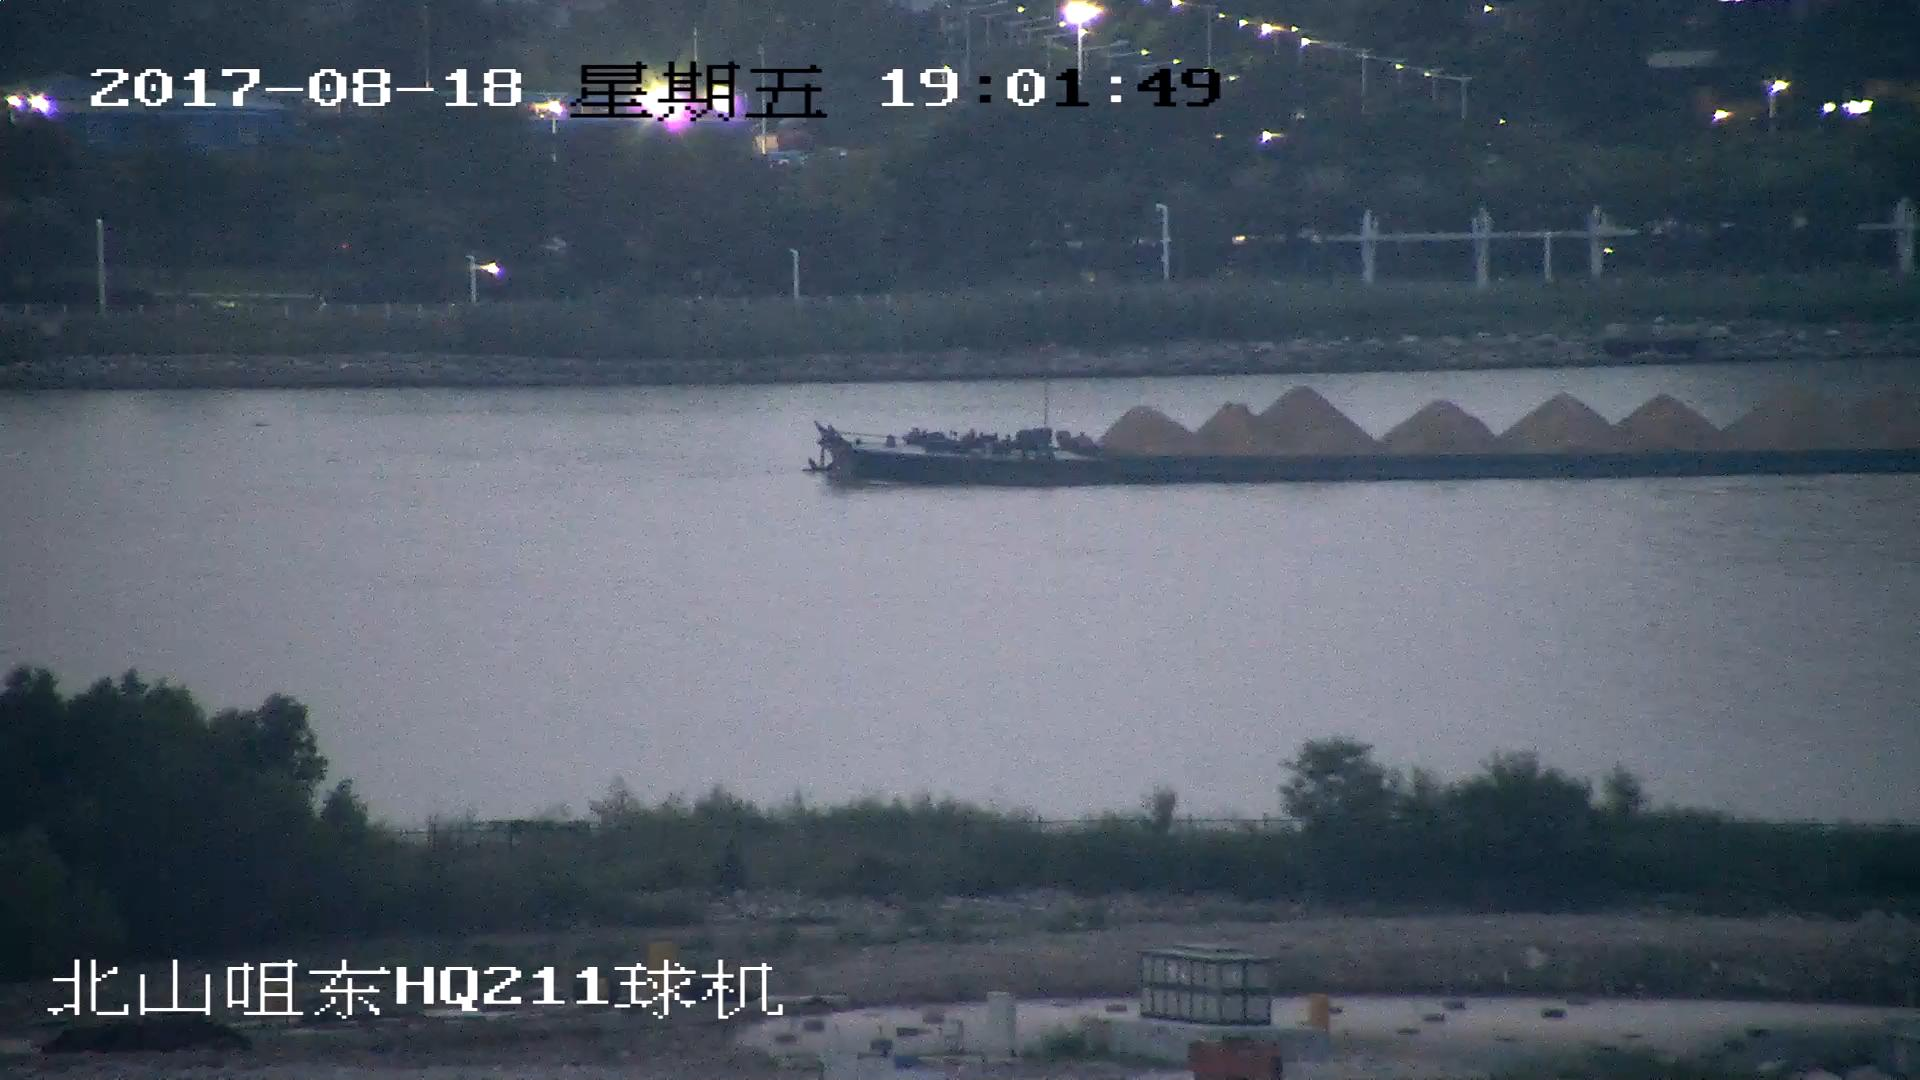ore carrier: (804, 384, 1920, 486)
